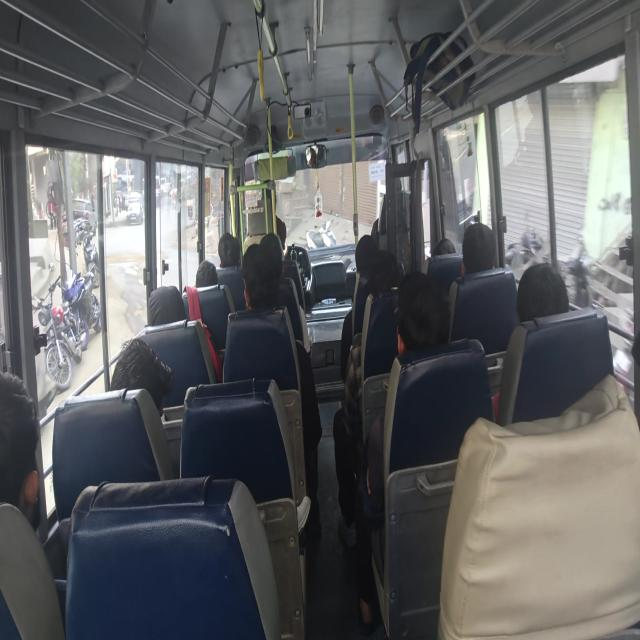person: (355, 270, 451, 634), (224, 233, 322, 538), (332, 249, 402, 546), (0, 368, 66, 638), (492, 260, 570, 422), (0, 369, 41, 524), (448, 222, 497, 340), (339, 233, 378, 379), (110, 336, 174, 417), (516, 262, 569, 322), (461, 221, 496, 277), (147, 285, 186, 326), (217, 232, 241, 268), (195, 260, 218, 286), (432, 237, 456, 255)
